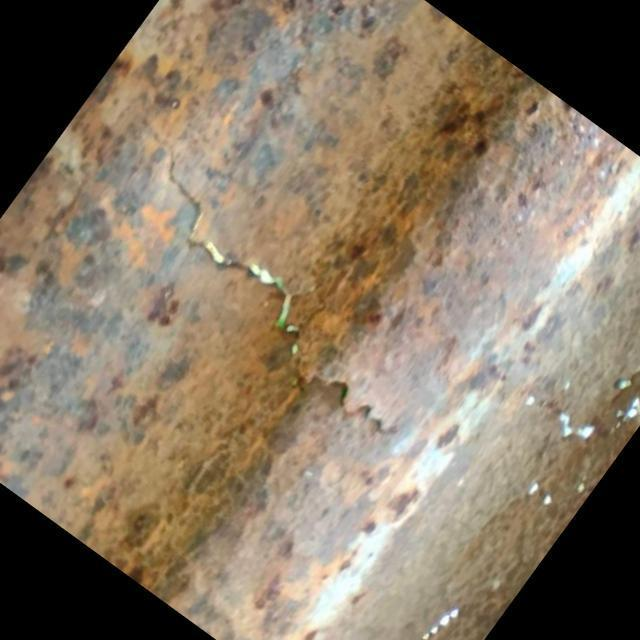defect: (134, 95, 410, 442)
